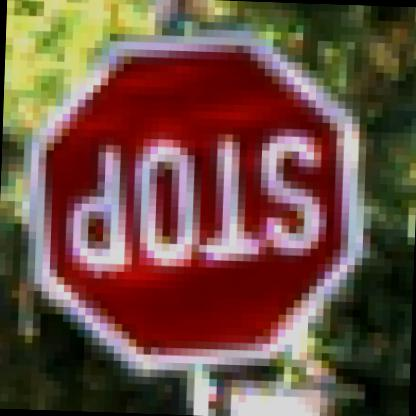stop: (1, 8, 402, 382)
